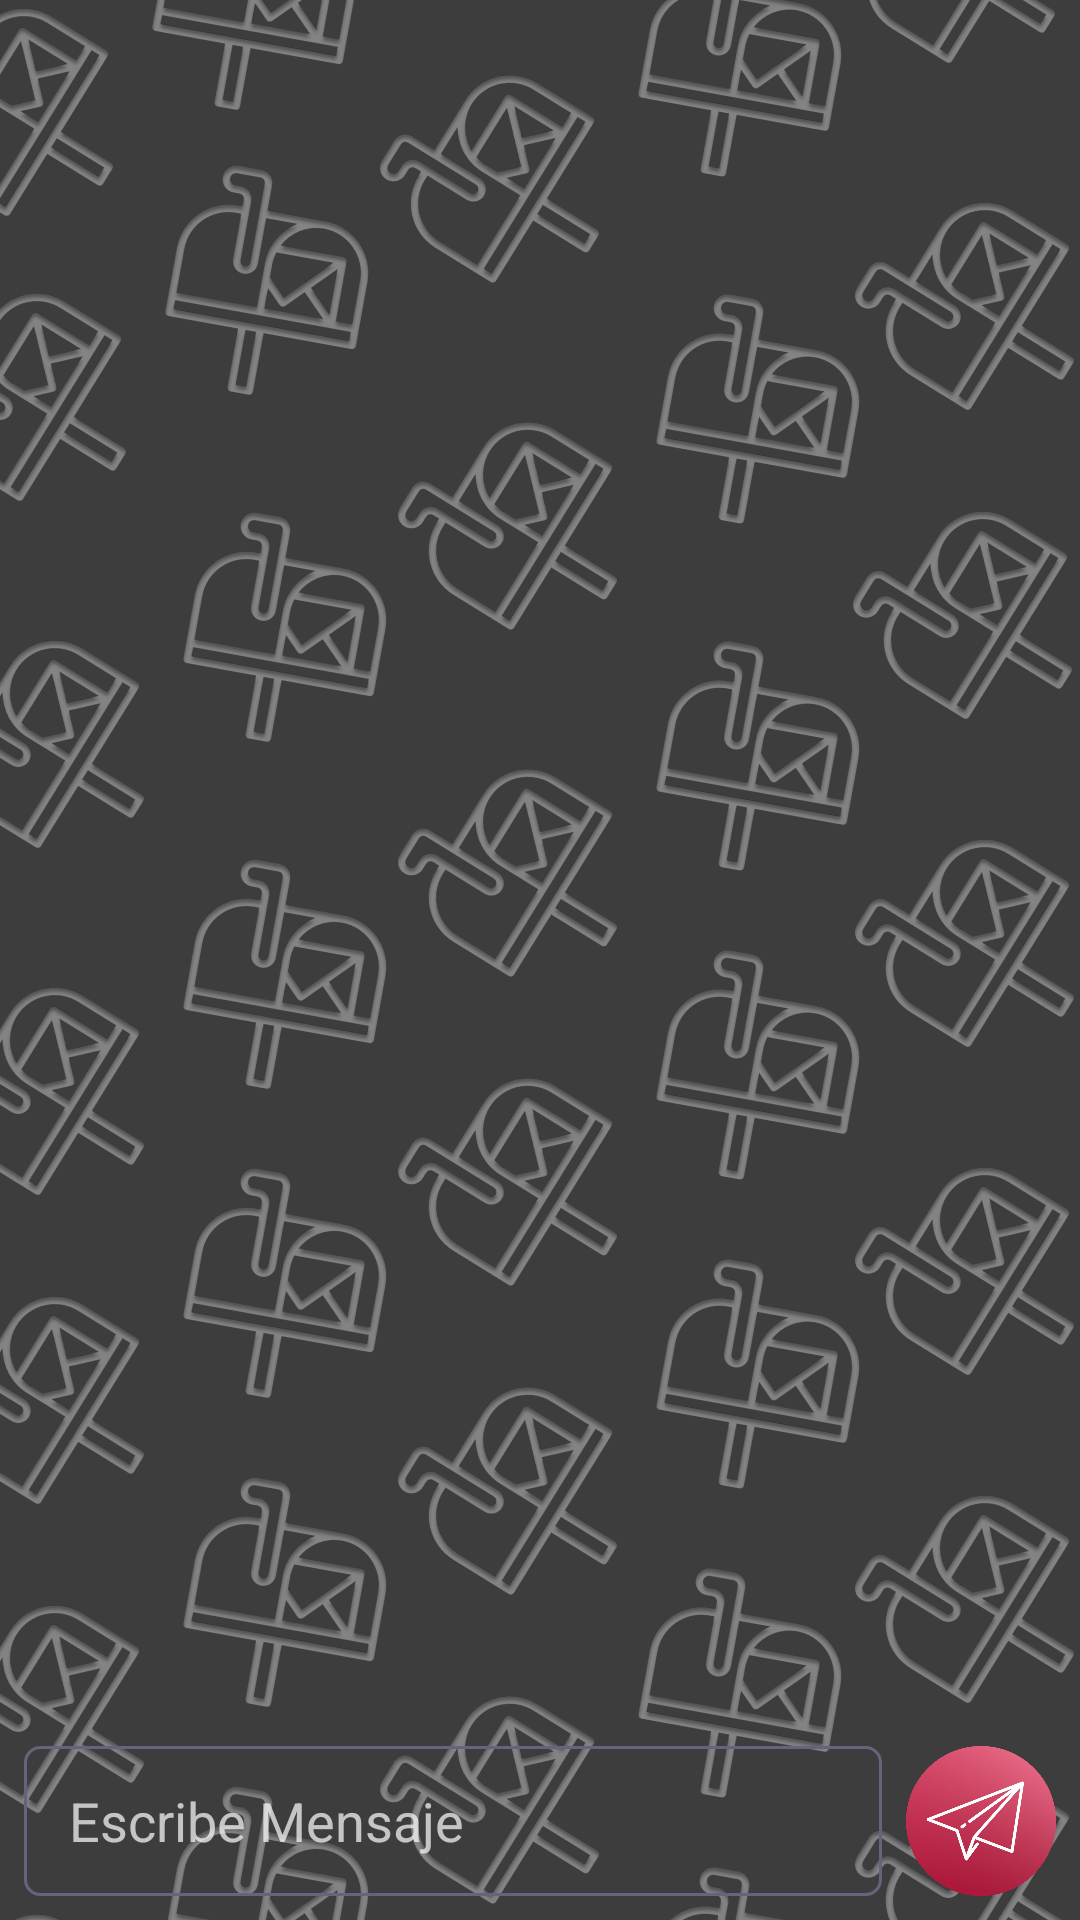

Where icons sit on this 1080px x 1920px app screen, as BBox(x1, y1, x2, y2):
send: BBox(906, 1746, 1056, 1896)
